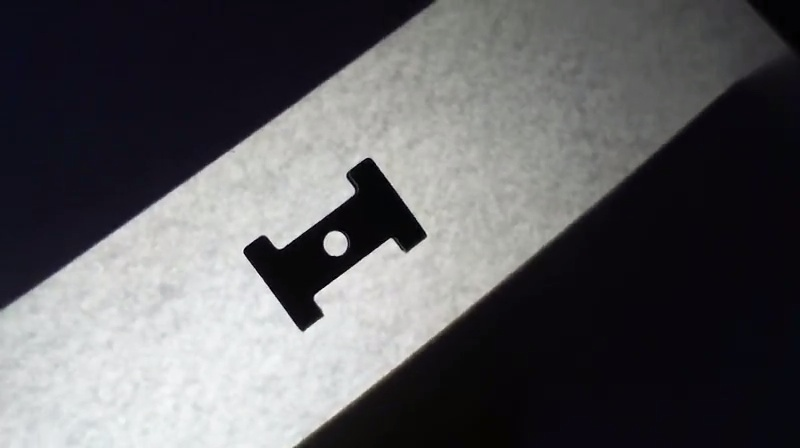O002: (238, 157, 430, 336)
